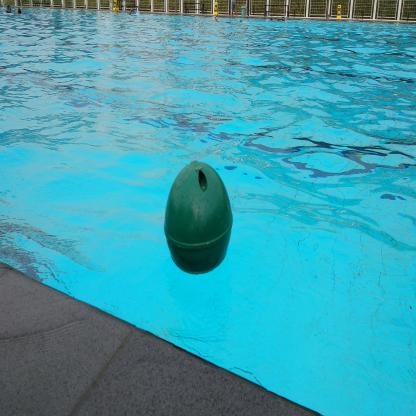green_buoy: (163, 160, 236, 282)
